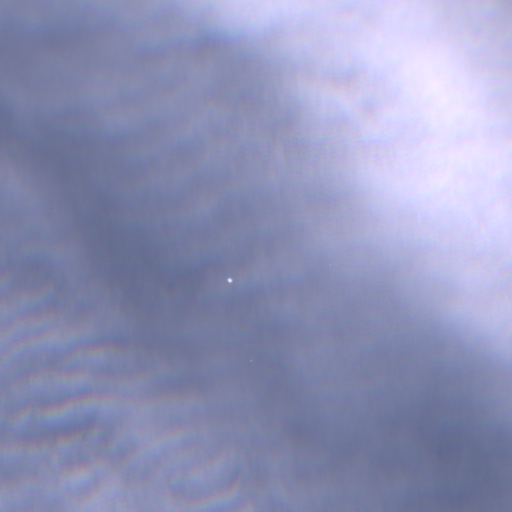Iceberg: (227, 278, 233, 282), (250, 360, 251, 361)
